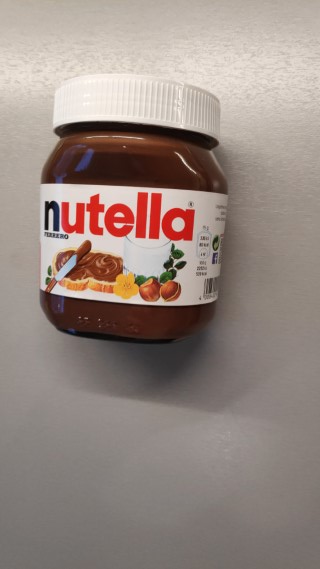nutella: (36, 73, 230, 345)
